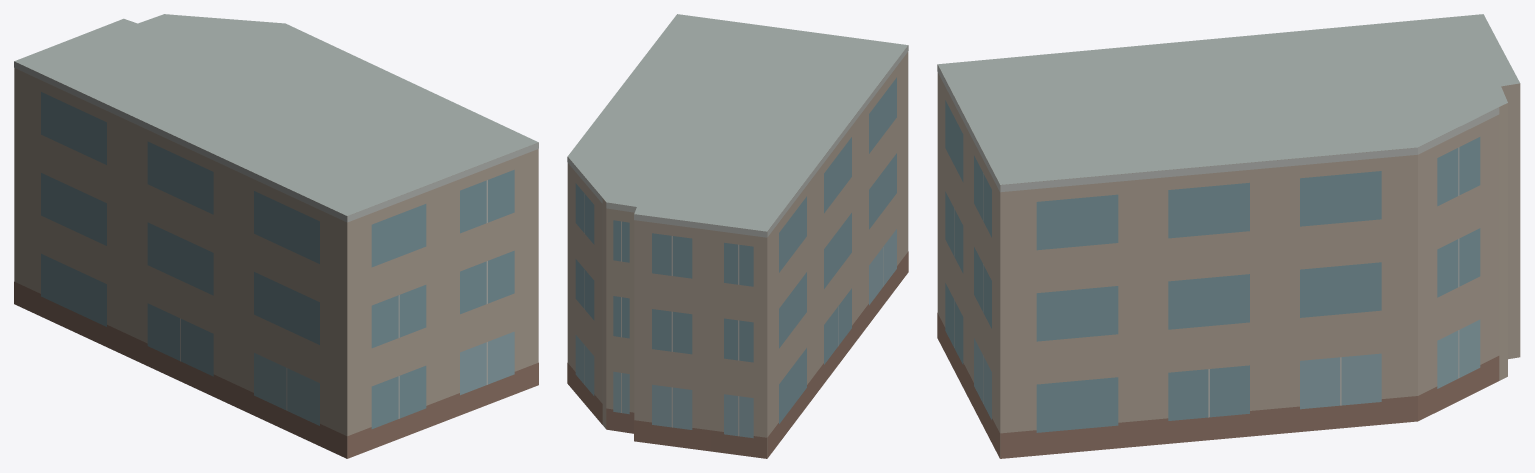
Rendered from survey-upis-32614073.glb.
3 renders of one model, left to right at view 1: azimuth 30°, elevation 25°; view 2: azimuth 150°, elevation 25°; view 3: azimuth 270°, elevation 25°, orthographic. The views are drawn at different scales.
Parts seen in each view (by area): view 1: survey-upis-32614073.tmp; view 2: survey-upis-32614073.tmp; view 3: survey-upis-32614073.tmp.
Part boxes in pixels (x1,y1,x2,y2): survey-upis-32614073.tmp: (14,14,538,458); survey-upis-32614073.tmp: (567,14,908,458); survey-upis-32614073.tmp: (937,14,1520,458).
Bounding box in the file's own units: 12.26 × 9.15 × 17.65.
